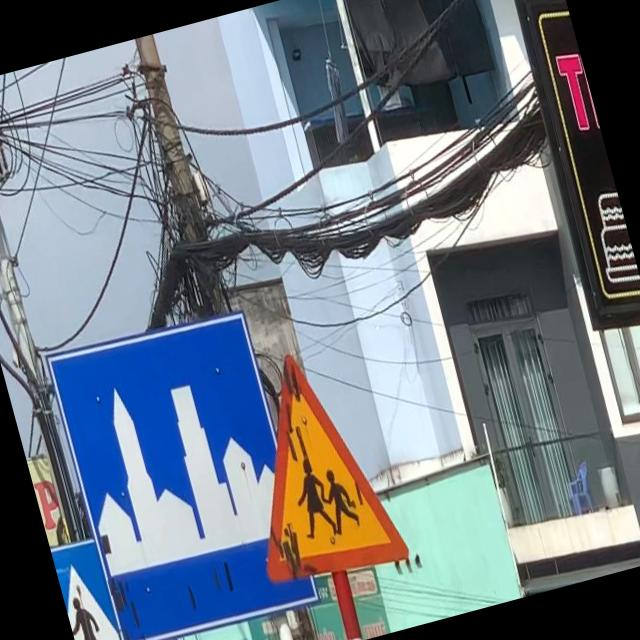W-225: (211, 334, 411, 598)
